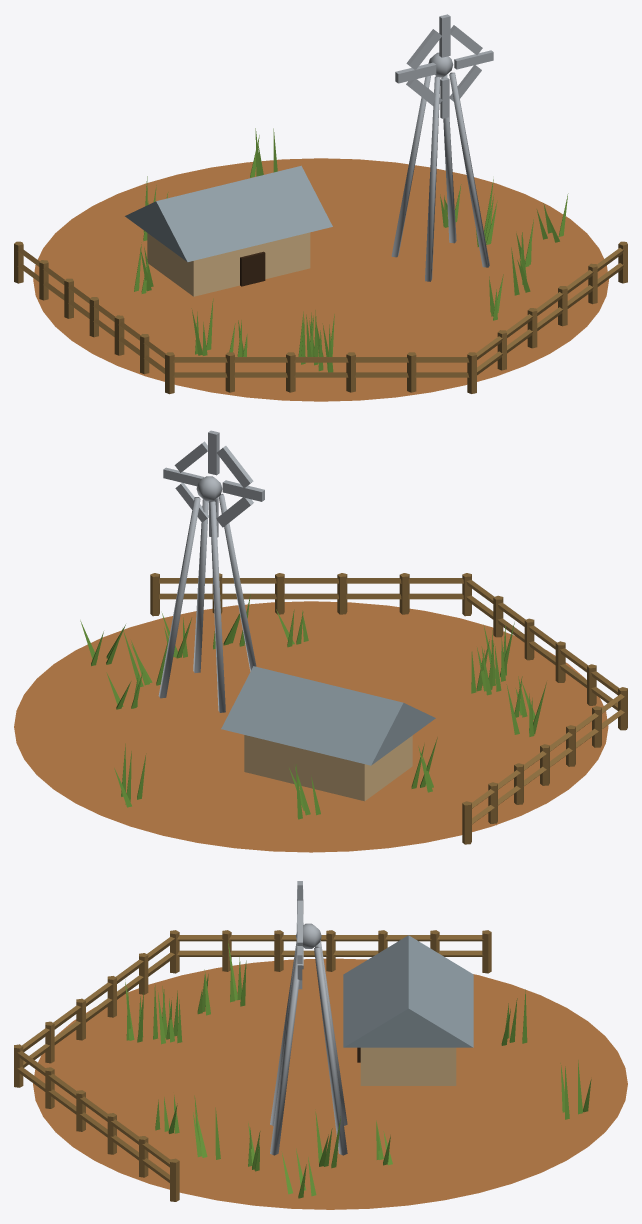
File: improvement_outback_station.fbx
3 views of the same model, one above another, from view 1: azimuth 30°, elevation 25°; view 2: azimuth 150°, elevation 25°; view 3: azimuth 270°, elevation 25° (orthographic). The views are drawn at different scales.
Parts seen in each view (by area): view 1: improvement_outback_station_gpatch#b87a44r_00, improvement_outback_station_wood#8a6a3a.002_06, improvement_outback_station_otin_03, improvement_outback_station_wmill_05, improvement_outback_station_owall_02, improvement_outback_station_leaf#6a9a3a.010_01, improvement_outback_station_door.002_04; view 2: improvement_outback_station_gpatch#b87a44r_00, improvement_outback_station_wood#8a6a3a.002_06, improvement_outback_station_otin_03, improvement_outback_station_wmill_05, improvement_outback_station_leaf#6a9a3a.010_01, improvement_outback_station_owall_02; view 3: improvement_outback_station_gpatch#b87a44r_00, improvement_outback_station_wood#8a6a3a.002_06, improvement_outback_station_otin_03, improvement_outback_station_leaf#6a9a3a.010_01, improvement_outback_station_wmill_05, improvement_outback_station_owall_02.
Boxes of the visible parts, x1,y1,x2,y2 form: improvement_outback_station_gpatch#b87a44r_00: (33,158,608,401); improvement_outback_station_wood#8a6a3a.002_06: (14,241,627,394); improvement_outback_station_otin_03: (125,165,332,262); improvement_outback_station_wmill_05: (391,14,493,281); improvement_outback_station_owall_02: (147,232,310,296); improvement_outback_station_leaf#6a9a3a.010_01: (134,128,568,372); improvement_outback_station_door.002_04: (240,251,265,286); improvement_outback_station_gpatch#b87a44r_00: (14,601,608,852); improvement_outback_station_wood#8a6a3a.002_06: (150,573,627,844); improvement_outback_station_otin_03: (221,666,435,765); improvement_outback_station_wmill_05: (158,430,264,712); improvement_outback_station_leaf#6a9a3a.010_01: (80,594,546,819); improvement_outback_station_owall_02: (244,735,412,801); improvement_outback_station_gpatch#b87a44r_00: (33,958,627,1209); improvement_outback_station_wood#8a6a3a.002_06: (14,930,491,1201); improvement_outback_station_otin_03: (343,935,473,1047); improvement_outback_station_leaf#6a9a3a.010_01: (125,943,591,1198); improvement_outback_station_wmill_05: (270,881,347,1155); improvement_outback_station_owall_02: (360,1047,456,1085).
Size of the model in its own units: 137 by 65.87 by 142.
